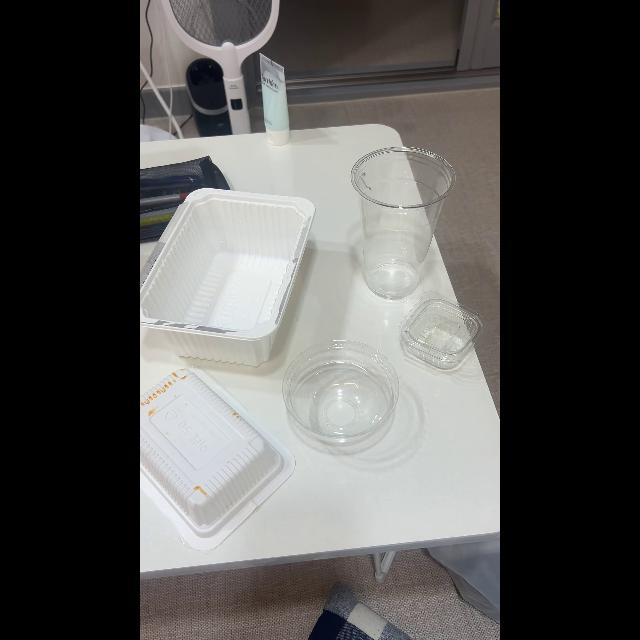clean: (140, 190, 314, 358), (352, 145, 454, 297), (282, 342, 400, 442), (401, 296, 484, 366)
dirty: (140, 370, 278, 526)
